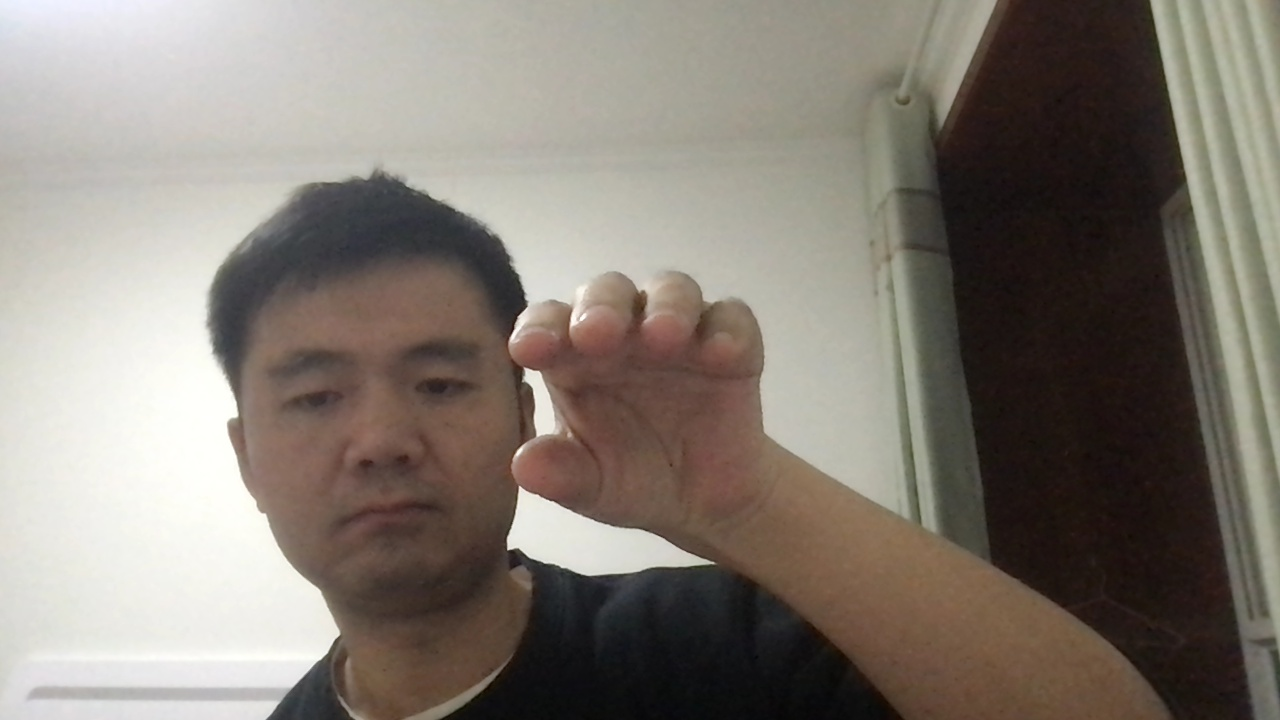no: (499, 271, 791, 541)
